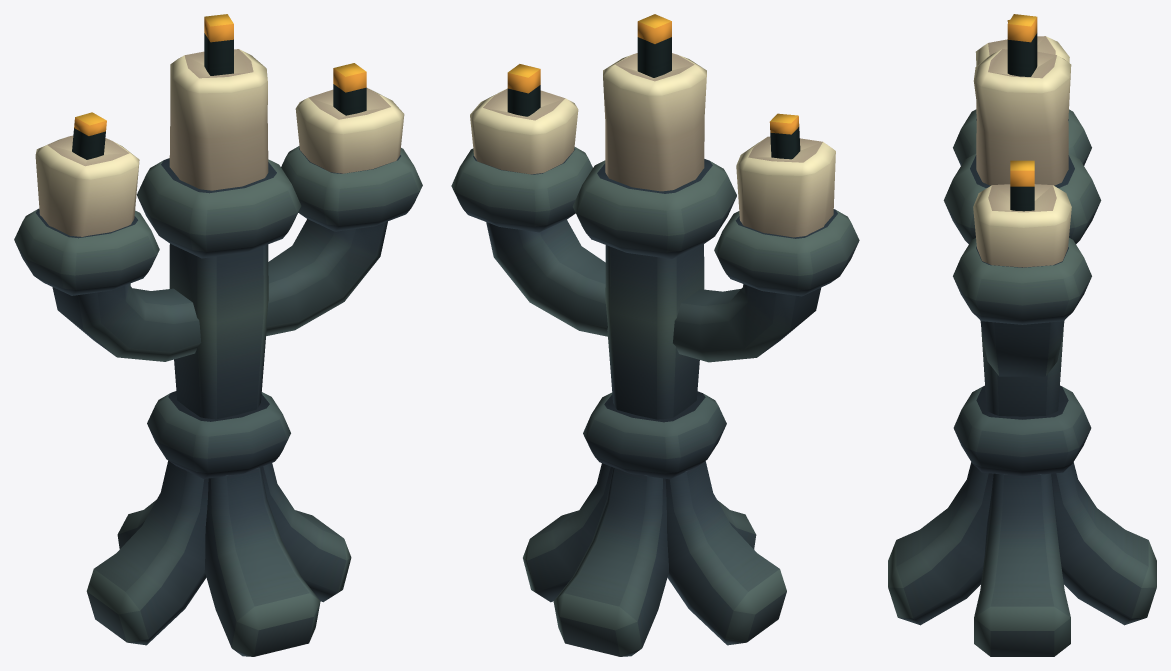
The model's file is candelabra_2.fbx.
3 renders of one model, left to right at view 1: azimuth 30°, elevation 25°; view 2: azimuth 150°, elevation 25°; view 3: azimuth 270°, elevation 25°, orthographic.
Visible parts, largest first — view 1: candelabra_2; view 2: candelabra_2; view 3: candelabra_2.
Boxes of the visible parts, x1,y1,x2,y2 form: candelabra_2: [14, 14, 422, 656]; candelabra_2: [451, 14, 859, 656]; candelabra_2: [888, 14, 1156, 656].
Bounding box in the file's own units: 103 × 152 × 62.44.
